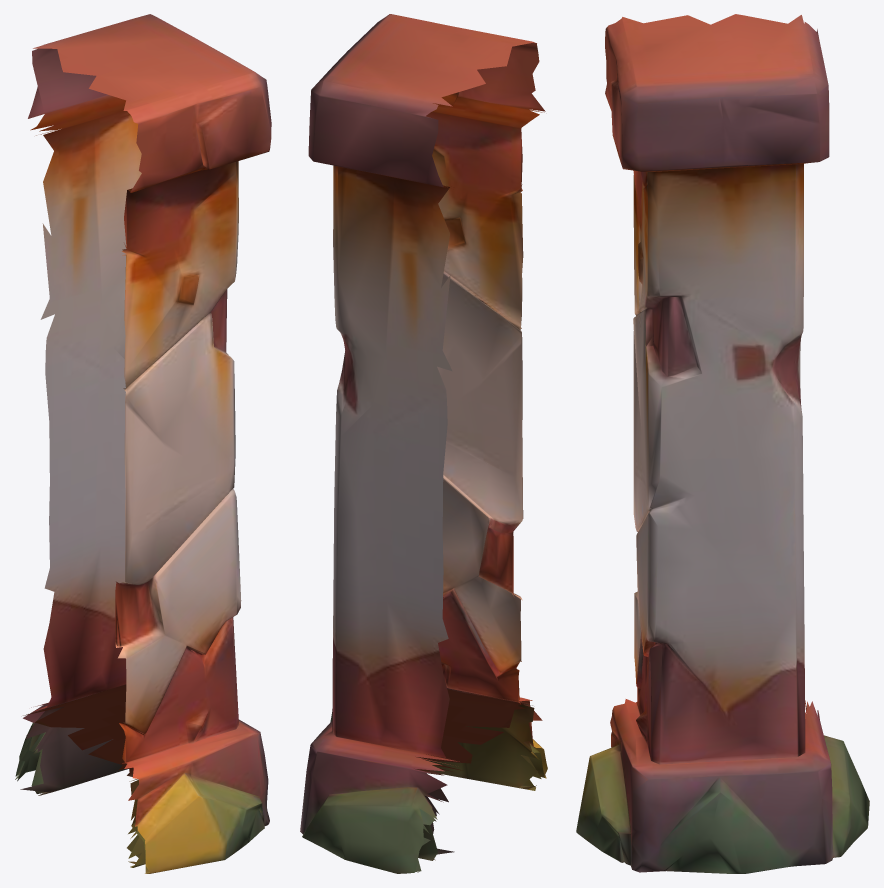
The model's file is gate_4.glb.
3 views of the same model, side by side, from view 1: azimuth 30°, elevation 25°; view 2: azimuth 150°, elevation 25°; view 3: azimuth 270°, elevation 25° (orthographic). The views are drawn at different scales.
Visible parts, largest first — view 1: gate_4; view 2: gate_4; view 3: gate_4.
Boxes of the visible parts, box(x1,y1,x2,y2) form: gate_4: box(15, 14, 271, 873); gate_4: box(300, 14, 547, 873); gate_4: box(576, 14, 869, 873).
Size of the model in its own units: 0.169 by 0.6709 by 0.2293.
Materials: 1 (1 with a texture image).
